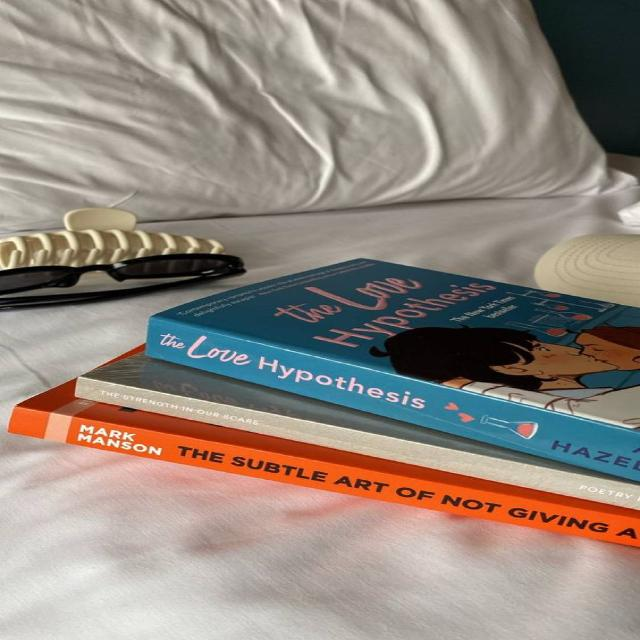book: (9, 404, 640, 546), (146, 316, 640, 480), (73, 373, 638, 511)
